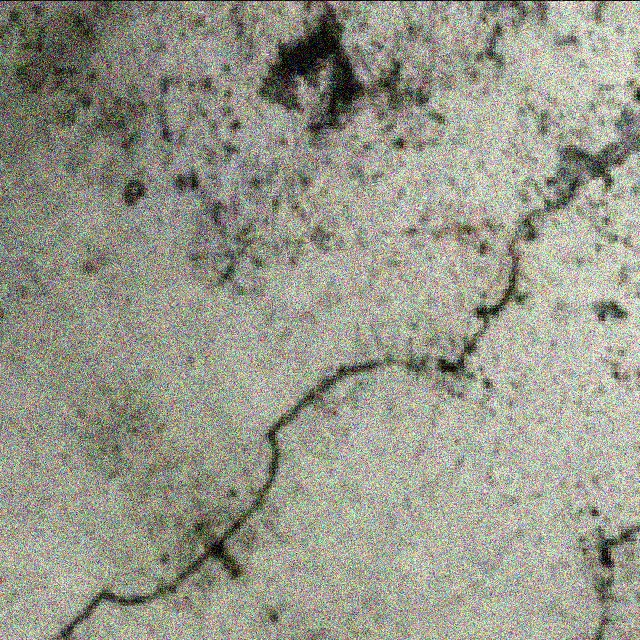SurfaceCrack: (70, 112, 638, 640)
